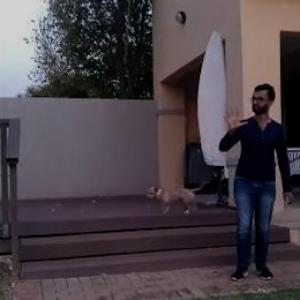follow_hand: (216, 102, 248, 136)
